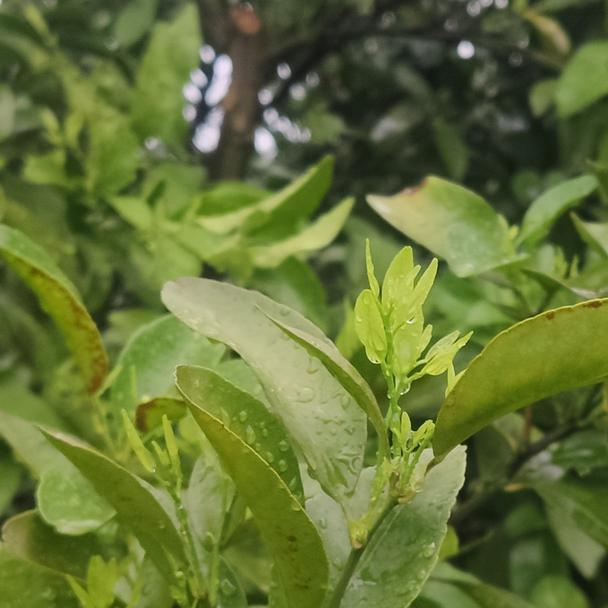shoot: (359, 249, 431, 364), (123, 410, 192, 503), (397, 323, 471, 403)
